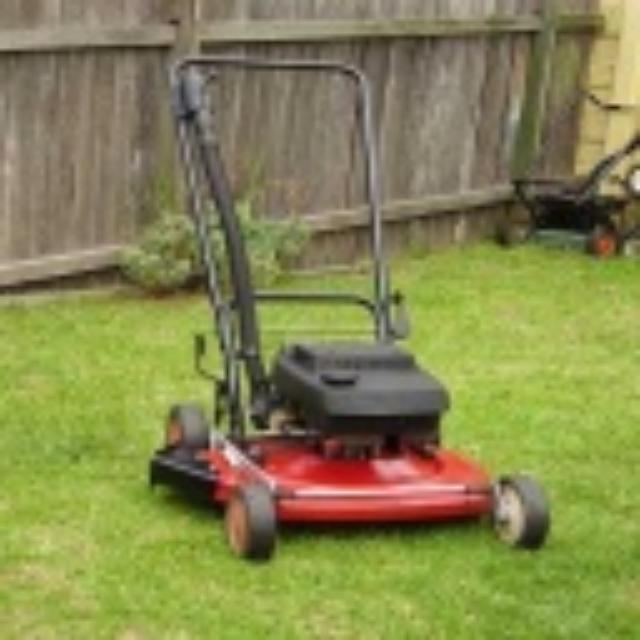Rotary-Mower: (129, 52, 559, 580)
